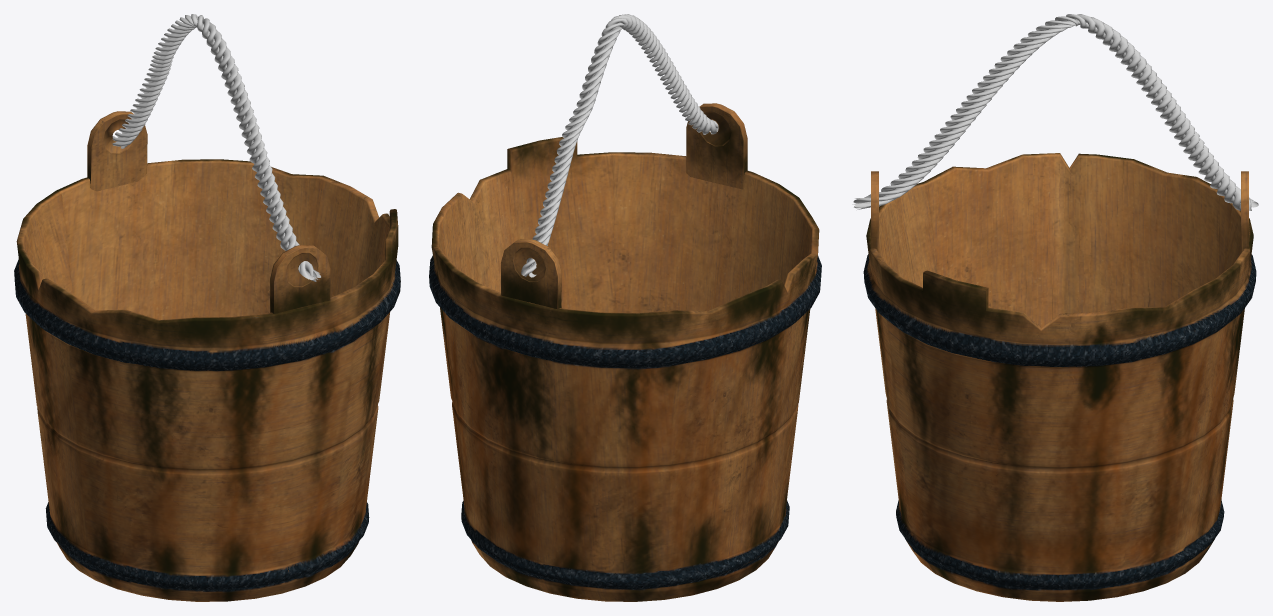
File: bucket.fbx
3 renders of one model, left to right at view 1: azimuth 30°, elevation 25°; view 2: azimuth 150°, elevation 25°; view 3: azimuth 270°, elevation 25°, orthographic.
Parts seen in each view (by area): view 1: bucket, handle; view 2: bucket, handle; view 3: bucket, handle.
Part boxes in pixels (bbox=[...]): bucket: bbox=[14, 111, 400, 601]; handle: bbox=[112, 14, 320, 281]; bucket: bbox=[429, 103, 821, 601]; handle: bbox=[521, 14, 718, 277]; bucket: bbox=[863, 153, 1256, 601]; handle: bbox=[852, 14, 1258, 210].
Size of the model in its own units: 37.23 by 55.35 by 38.73.
